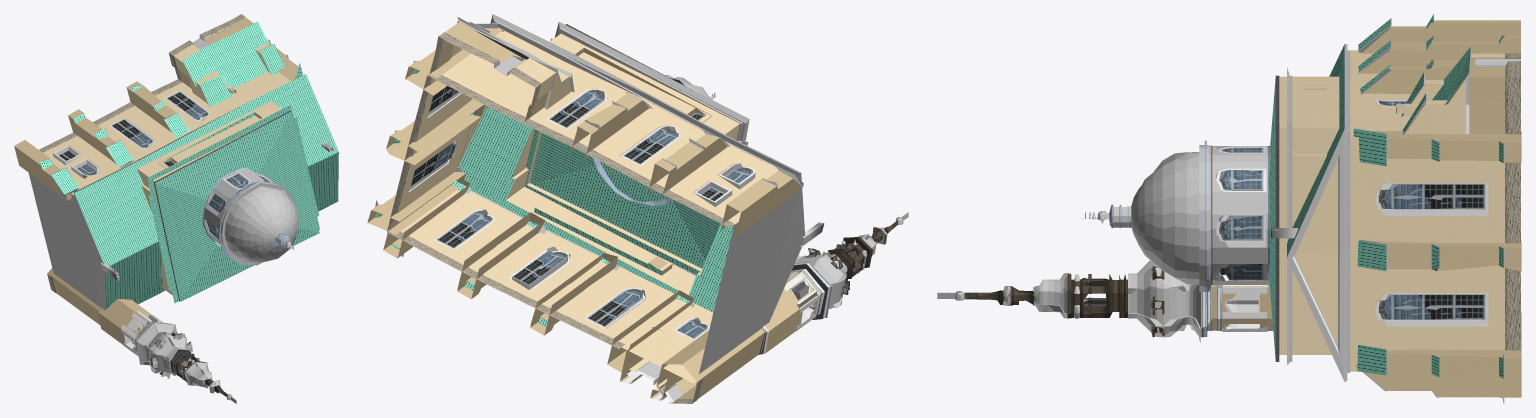
File: Suur-Kloostri_14_2-origo.obj
3 renders of one model, left to right at view 1: azimuth 30°, elevation 25°; view 2: azimuth 150°, elevation 25°; view 3: azimuth 270°, elevation 25°, orthographic. The views are drawn at different scales.
Visible parts, largest first — view 1: Suur_Kloostri_14_2; view 2: Suur_Kloostri_14_2; view 3: Suur_Kloostri_14_2.
Part boxes in pixels (bbox=[...]): Suur_Kloostri_14_2: bbox=[14, 14, 338, 403]; Suur_Kloostri_14_2: bbox=[367, 14, 908, 403]; Suur_Kloostri_14_2: bbox=[937, 14, 1521, 403].
Size of the model in its own units: 42.69 by 35.5 by 45.4.
